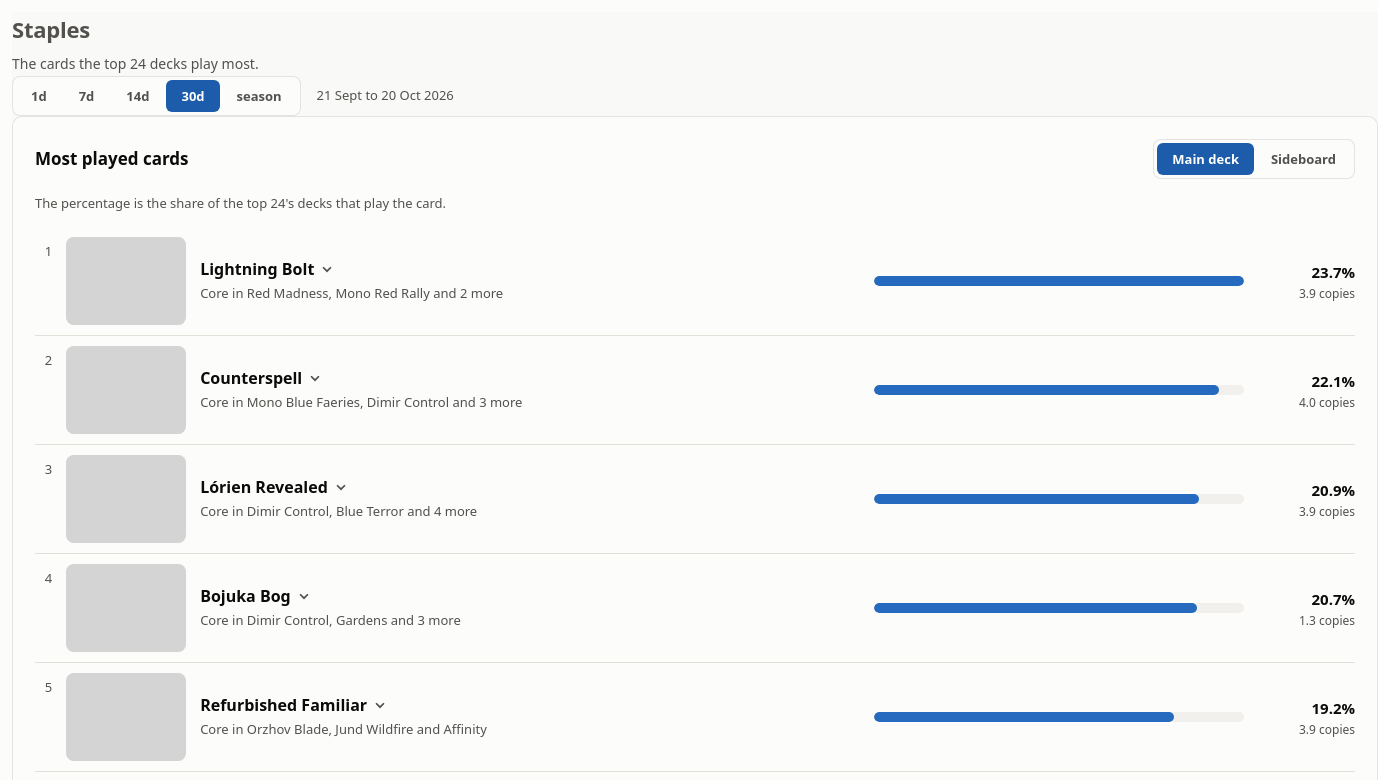
Test case: StaplesPage › closes the open cards when the reader picks another window, and keeps a card opened during the load open
The width and height of the screenshot is (1378, 780).
Click the button "Lightning Bolt" at (267, 269), box [200,259,334,279]
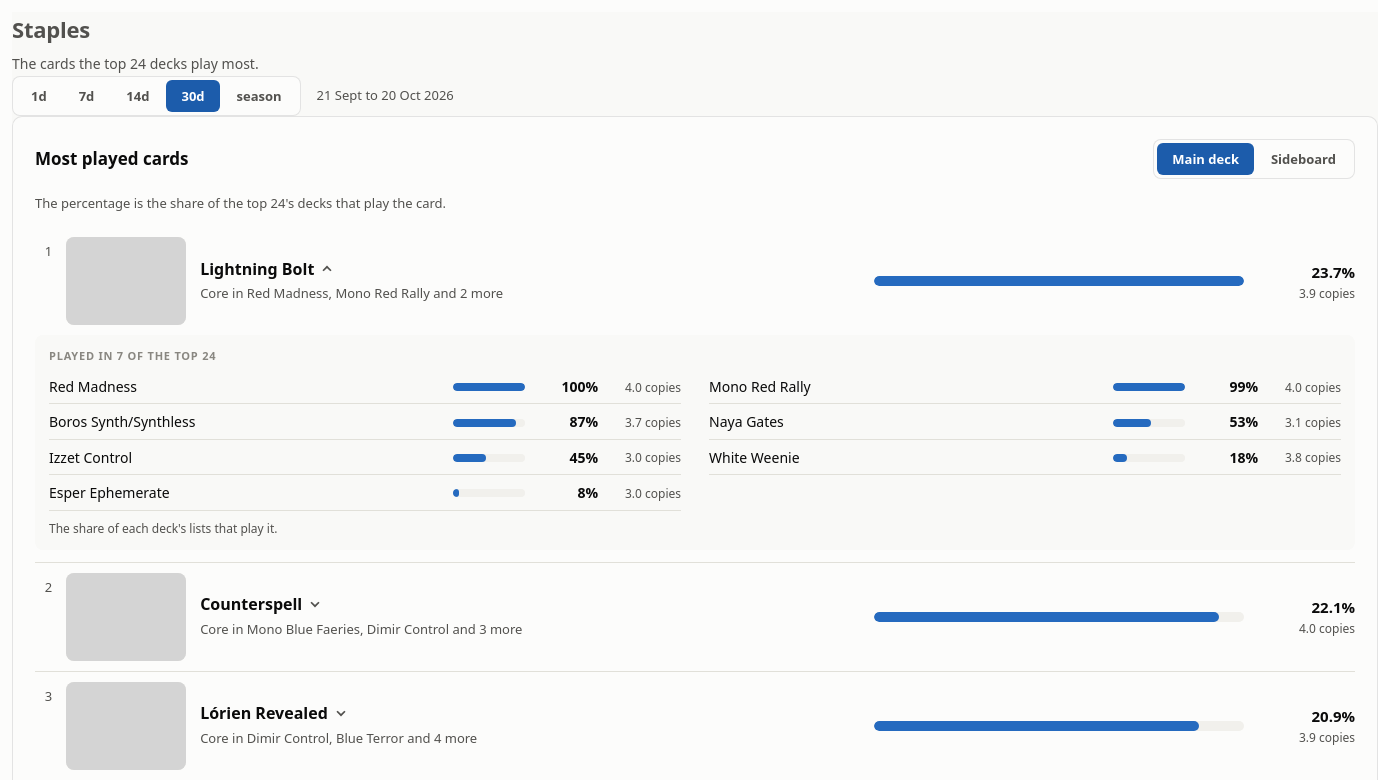
Click the button "7d" at (87, 96), box [64,80,109,112]
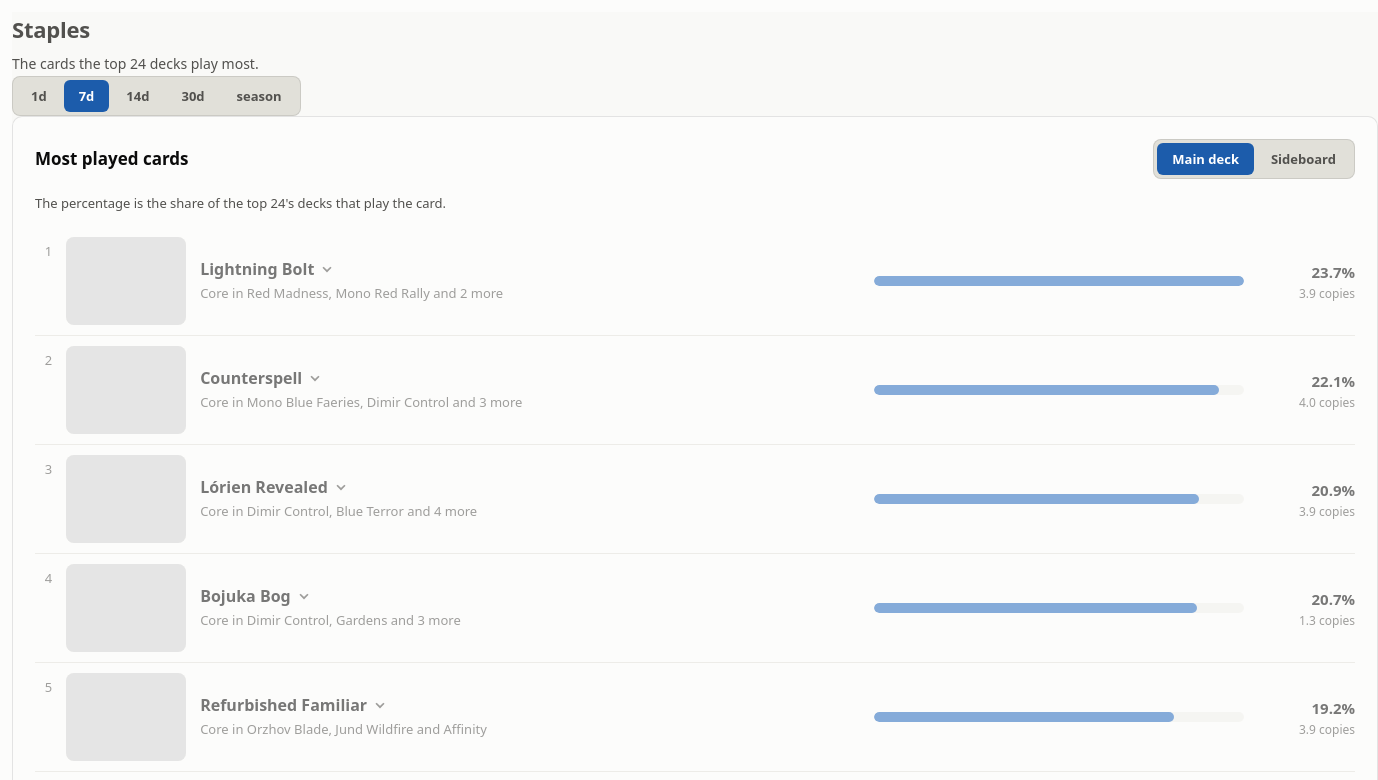
Click the button "Counterspell" at (261, 378), box [200,368,322,388]
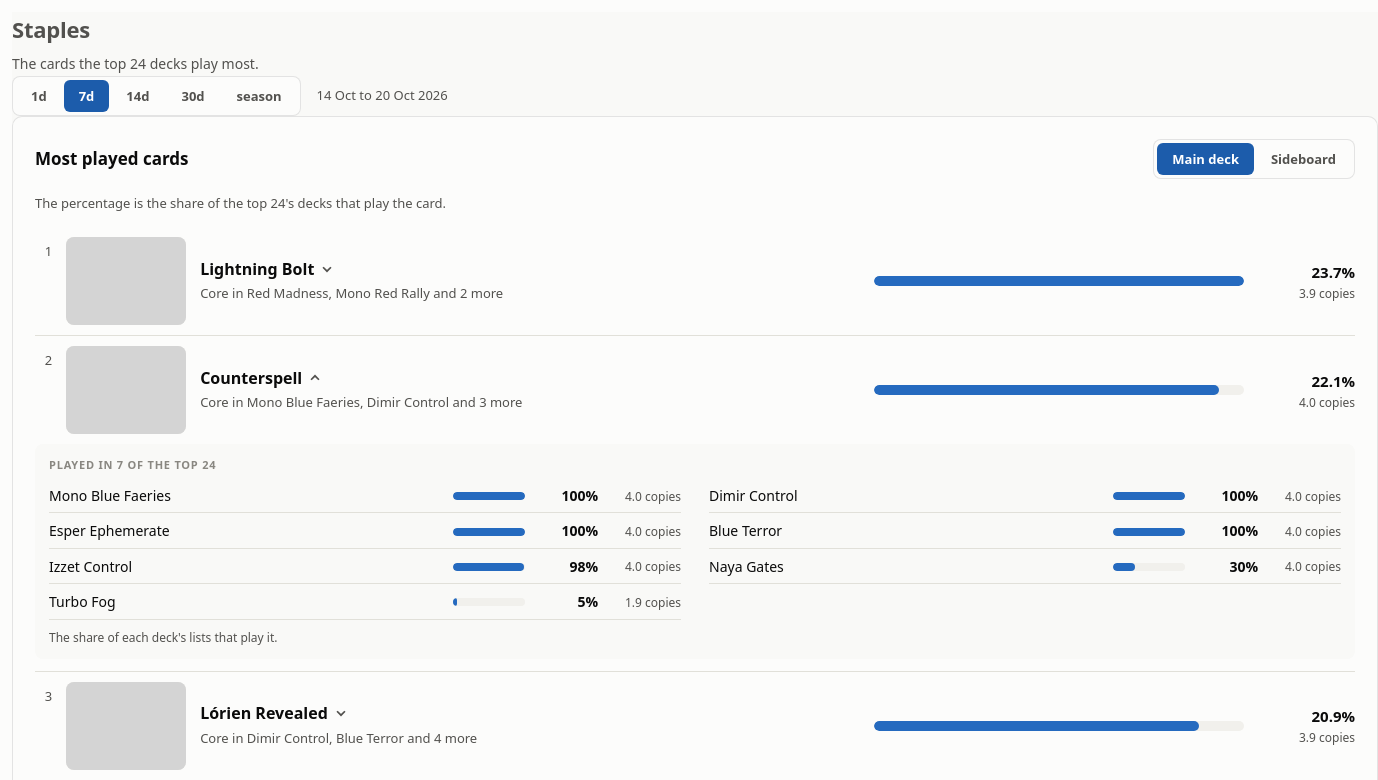
Check: the text "14 Oct to 20 Oct 2026" is shown, box [317,85,448,106]
